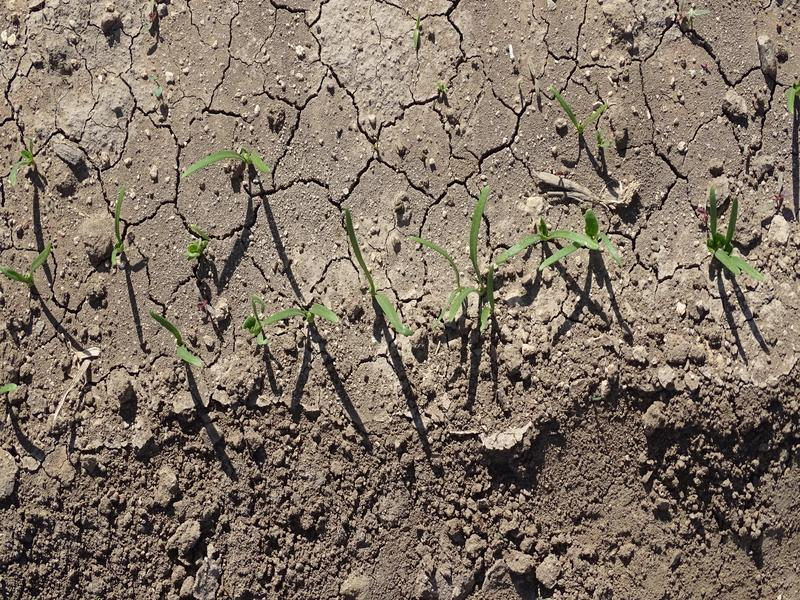Espinaca: (424, 200, 498, 328), (340, 208, 409, 334), (490, 218, 614, 267), (705, 193, 761, 285), (149, 309, 204, 371), (245, 300, 347, 330), (100, 202, 140, 263), (185, 150, 274, 175), (5, 251, 52, 289)
